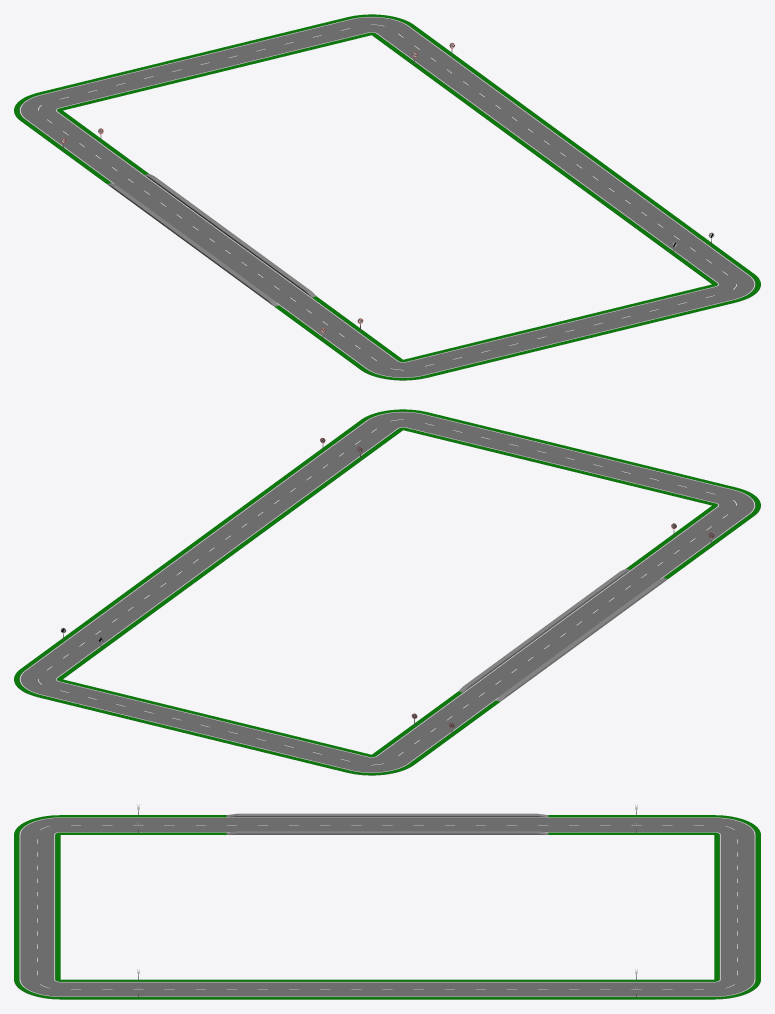
The model's file is simple_environment.dae.
3 views of the same model, one above another, from view 1: azimuth 30°, elevation 25°; view 2: azimuth 150°, elevation 25°; view 3: azimuth 270°, elevation 25° (orthographic). The views are drawn at different scales.
Parts seen in each view (by area): view 1: Cylinder.003, Cylinder.001, Cylinder.004, Cylinder.002, Plane.053, Plane.050, Plane.056, Plane.048, Plane.057, Plane.049, Plane.055, Plane.051 (+56 smaller); view 2: Cylinder.002, Cylinder.004, Cylinder.001, Cylinder.003, Plane.053, Plane.056, Plane.058, Plane.050, Plane.057, Plane.049, Plane.055, Plane.051 (+56 smaller); view 3: Cylinder.004, Cylinder.001, Cylinder.003, Cylinder.002, Plane.057, Plane.049, Plane.056, Plane.055, Plane.054, Plane.052, Plane.051, Plane.050 (+56 smaller).
Boxes of the visible parts, bbox=[...] form: Cylinder.003: bbox=[361, 360, 427, 380]; Cylinder.001: bbox=[347, 14, 413, 34]; Cylinder.004: bbox=[713, 274, 760, 302]; Cylinder.002: bbox=[14, 92, 62, 120]; Plane.053: bbox=[182, 227, 240, 251]; Plane.050: bbox=[231, 263, 289, 286]; Plane.056: bbox=[134, 192, 191, 215]; Plane.048: bbox=[263, 287, 321, 310]; Plane.057: bbox=[117, 180, 175, 203]; Plane.049: bbox=[247, 275, 305, 298]; Plane.055: bbox=[150, 204, 208, 227]; Plane.051: bbox=[215, 251, 272, 274]; Cylinder.002: bbox=[347, 755, 413, 775]; Cylinder.004: bbox=[361, 409, 427, 429]; Cylinder.001: bbox=[14, 669, 61, 697]; Cylinder.003: bbox=[712, 487, 760, 515]; Plane.053: bbox=[534, 622, 592, 646]; Plane.056: bbox=[485, 658, 543, 681]; Plane.058: bbox=[453, 682, 511, 705]; Plane.050: bbox=[583, 587, 640, 610]; Plane.057: bbox=[469, 670, 527, 693]; Plane.049: bbox=[599, 575, 657, 598]; Plane.055: bbox=[502, 646, 559, 669]; Plane.051: bbox=[566, 599, 624, 622]; Cylinder.004: bbox=[14, 979, 60, 999]; Cylinder.001: bbox=[714, 979, 760, 999]; Cylinder.003: bbox=[14, 815, 60, 834]; Cylinder.002: bbox=[714, 815, 760, 834]; Plane.057: bbox=[496, 813, 527, 834]; Plane.049: bbox=[247, 813, 278, 834]; Plane.056: bbox=[465, 813, 496, 834]; Plane.055: bbox=[434, 813, 465, 834]; Plane.054: bbox=[403, 813, 434, 834]; Plane.052: bbox=[340, 813, 371, 834]; Plane.051: bbox=[309, 813, 340, 834]; Plane.050: bbox=[278, 813, 309, 834].
Size of the model in its own units: 84 by 144 by 2.5.
